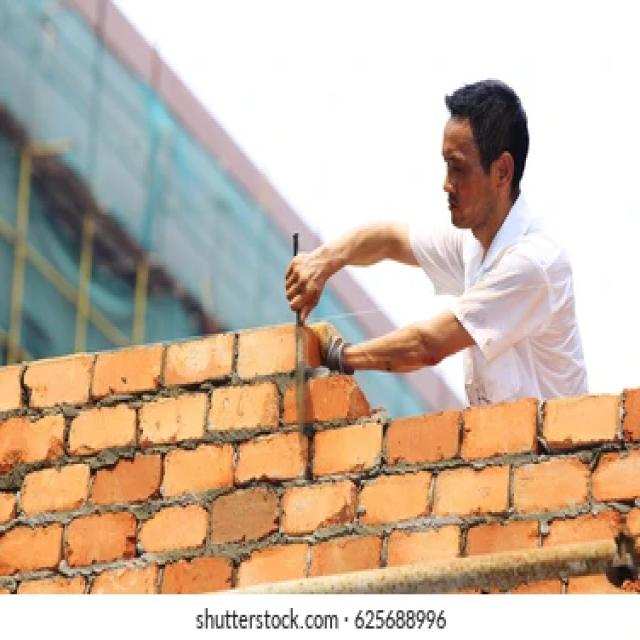nohelmet: (440, 79, 530, 234)
